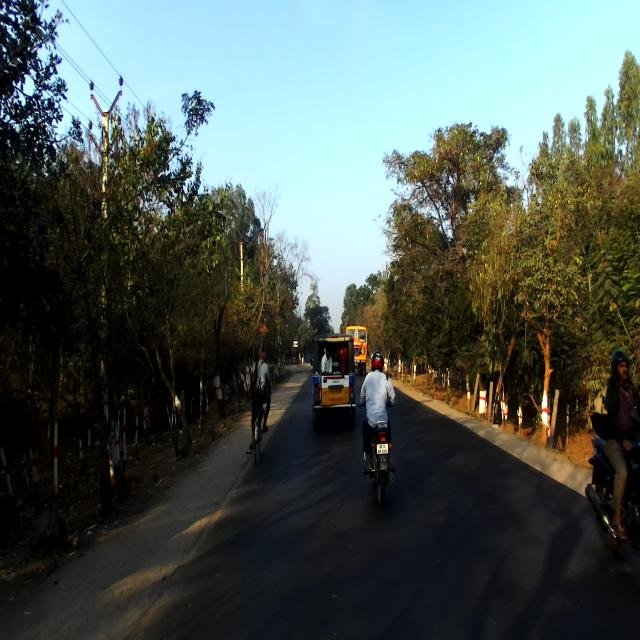bicycle ahead at: (245, 393, 275, 460)
car ahead at: (309, 332, 356, 423)
motorcycle ahead at: (360, 419, 398, 510)
